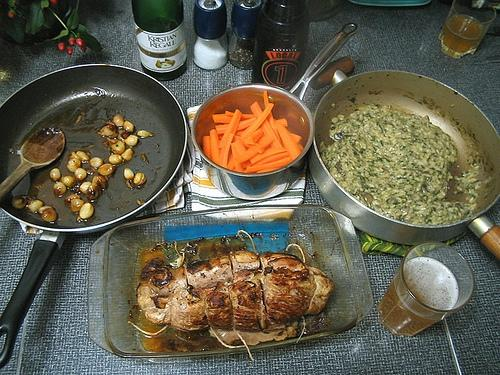carrot: (250, 102, 283, 150), (239, 103, 274, 139), (273, 118, 302, 160), (234, 134, 276, 162), (263, 90, 282, 146), (218, 110, 242, 150), (246, 156, 292, 172), (215, 117, 256, 134), (232, 138, 252, 168), (252, 151, 289, 167), (218, 133, 234, 169), (210, 129, 220, 164), (218, 134, 246, 144), (225, 111, 255, 120), (202, 136, 212, 160), (228, 152, 236, 170), (290, 133, 303, 144), (277, 118, 288, 126)
